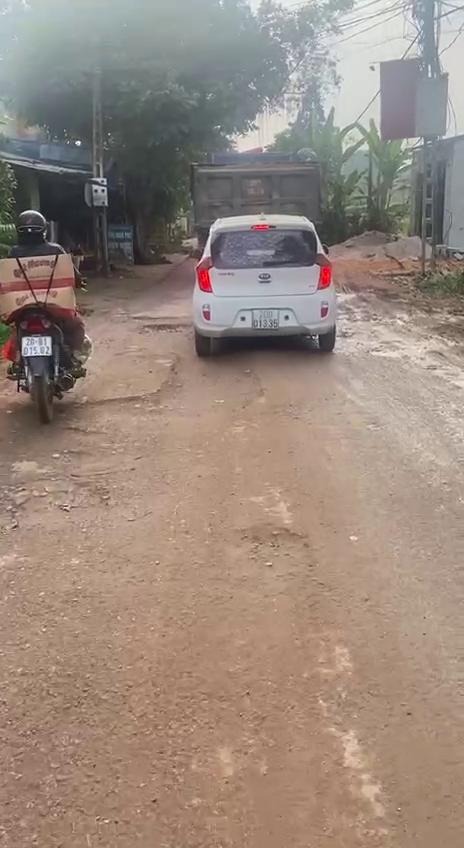pothole: (83, 377, 263, 418), (9, 468, 136, 522), (245, 516, 312, 576), (136, 320, 193, 340)
